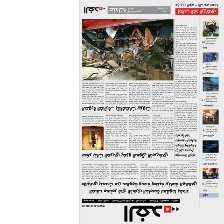news_paper: (75, 0, 224, 224)
